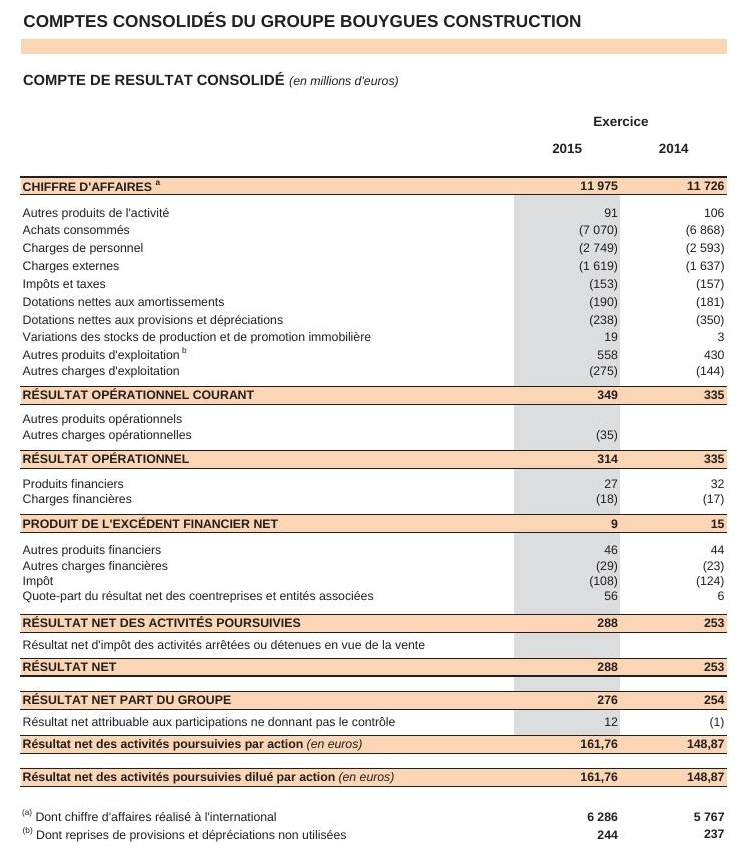table: (0, 0, 739, 855)
